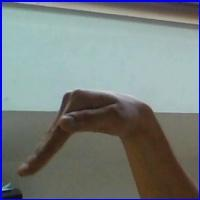A: (18, 81, 155, 181)
